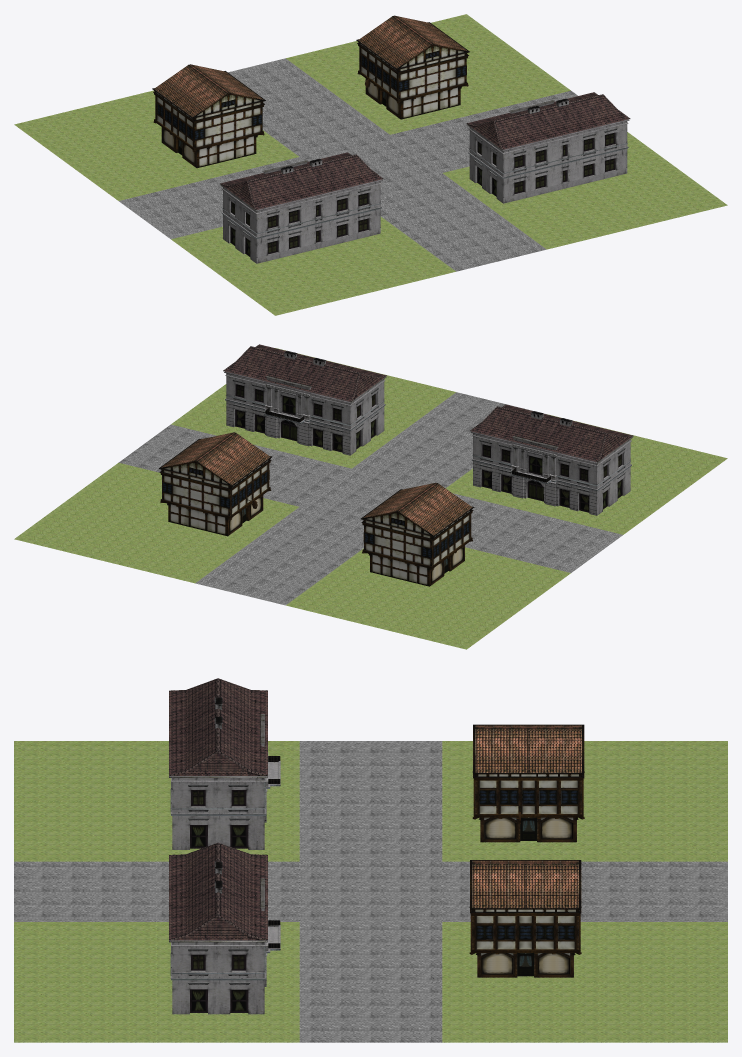
File: map50TCNSEW.fbx
3 renders of one model, top to bottom at view 1: azimuth 30°, elevation 25°; view 2: azimuth 150°, elevation 25°; view 3: azimuth 270°, elevation 25°, orthographic. The views are drawn at different scales.
Visible parts, largest first — view 1: Ground, Road, City_building_070, City_building_069, City_building_071, City_building_031; view 2: Ground, Road, City_building_070, City_building_069, City_building_031, City_building_071; view 3: Ground, Road, City_building_070, City_building_069, City_building_031, City_building_071.
Part boxes in pixels (<box>): Ground: <box>14,14,727,315</box>; Road: <box>119,58,577,271</box>; City_building_070: <box>466,92,630,203</box>; City_building_069: <box>220,152,383,263</box>; City_building_071: <box>356,15,469,119</box>; City_building_031: <box>152,64,265,168</box>; Ground: <box>14,348,727,649</box>; Road: <box>119,392,622,605</box>; City_building_070: <box>223,344,386,455</box>; City_building_069: <box>470,404,633,515</box>; City_building_031: <box>360,482,474,586</box>; City_building_071: <box>159,432,272,536</box>; Ground: <box>14,741,727,1042</box>; Road: <box>14,741,727,1042</box>; City_building_070: <box>169,842,280,1014</box>; City_building_069: <box>169,678,280,849</box>; City_building_031: <box>472,724,584,842</box>; City_building_071: <box>469,860,581,977</box>.
Size of the model in its own units: 1 by 0.1517 by 1.
